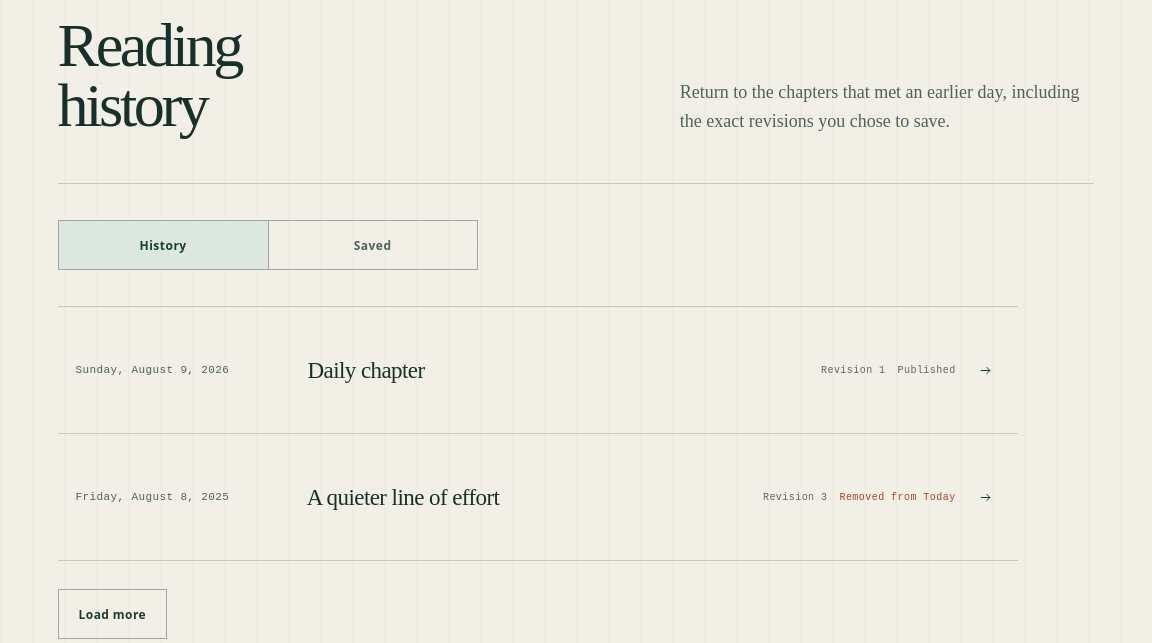
HistoryView › renders chronological cards with honest revision states and appends pagination
The image size is (1152, 643).
Expected: the element showing "Sunday, August 9, 2026 Daily chapter Revision 1 Published" is shown, [58, 306, 1018, 433]
Expected: the element that starts with "Friday, August 8, 2025" shows "A quieter line of effort", [58, 434, 1018, 560]
Click the button "Load more": (112, 614) [58, 589, 167, 639]
(page scrolled)
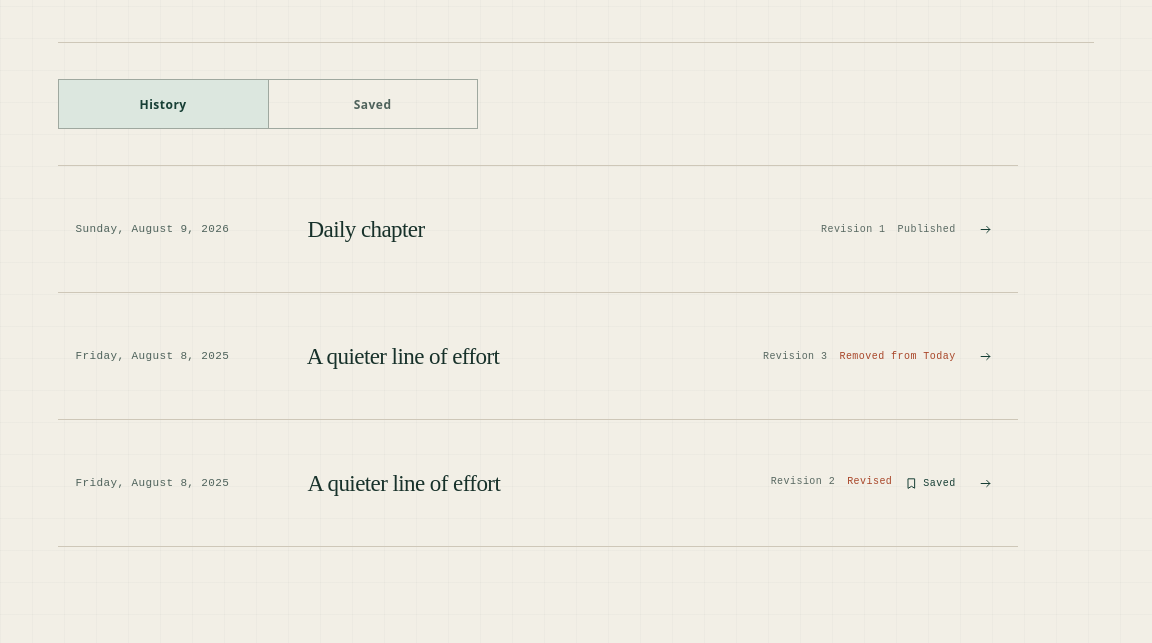
Expected: the element that starts with "Friday, August 8, 2025" shows "Revised", [58, 420, 1018, 546]
